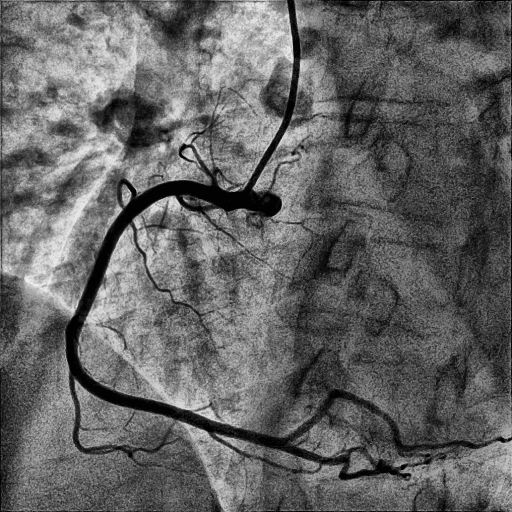pborca: (283, 389, 510, 452)
pda: (279, 444, 460, 481)
rca: (65, 180, 287, 450)
